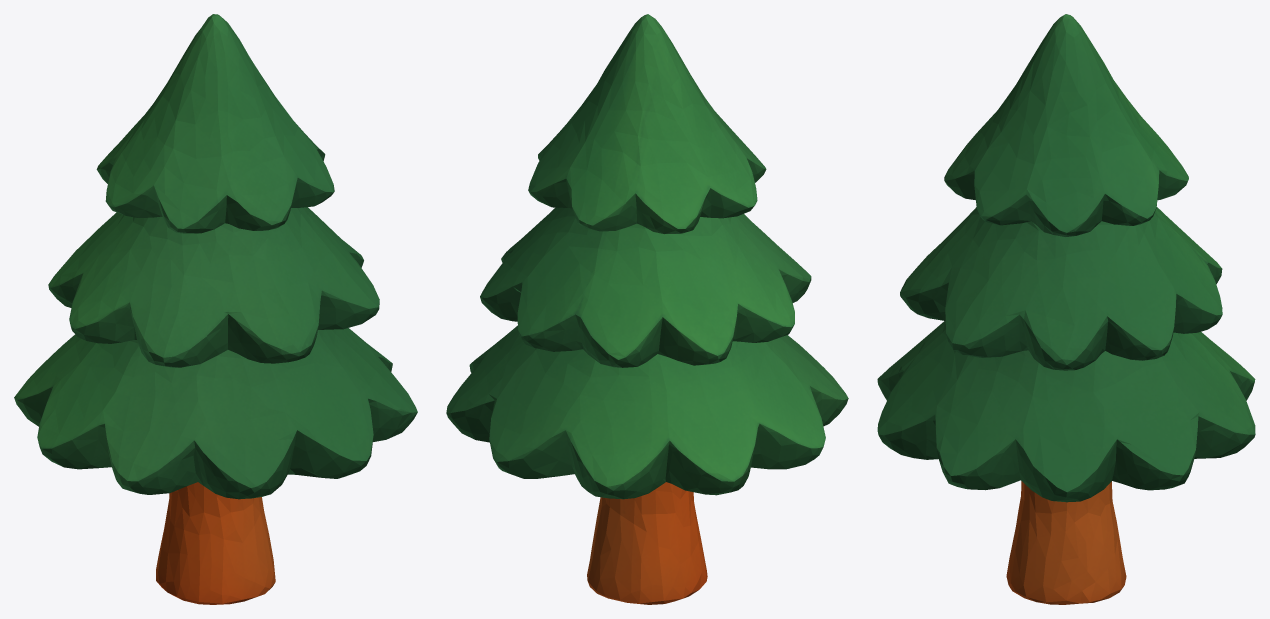
The picture shows the model from 3 angles, left to right: view 1: azimuth 30°, elevation 25°; view 2: azimuth 150°, elevation 25°; view 3: azimuth 270°, elevation 25°; orthographic projection.
Bounding box in the file's own units: 0.6501 × 1 × 0.6063.
1 material, 1 textured.
